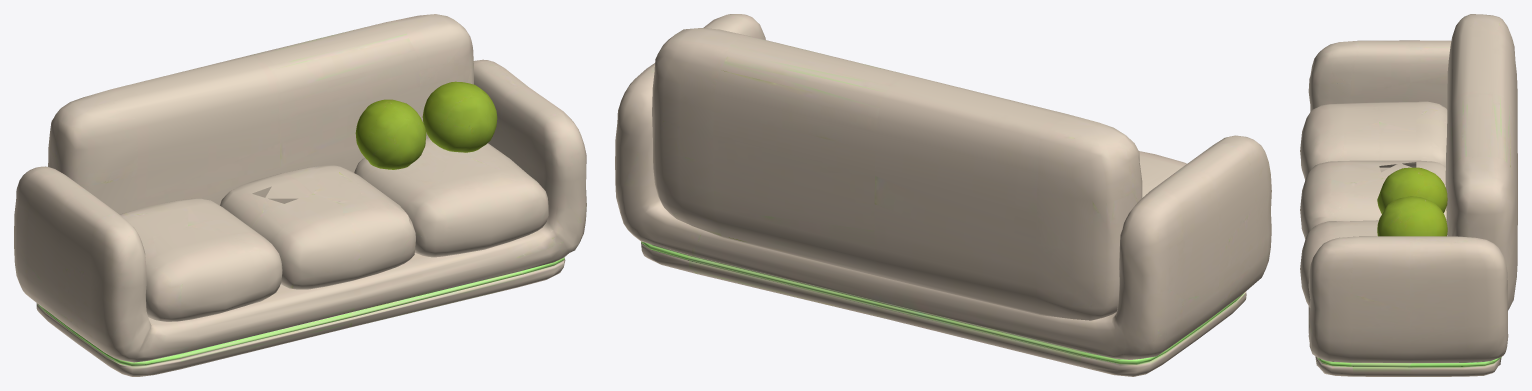
File: sofa.glb
3 renders of one model, left to right at view 1: azimuth 30°, elevation 25°; view 2: azimuth 150°, elevation 25°; view 3: azimuth 270°, elevation 25°, orthographic. The views are drawn at different scales.
Size of the model in its own units: 0.9565 by 0.3872 by 0.4081.
1 material, 1 textured.
